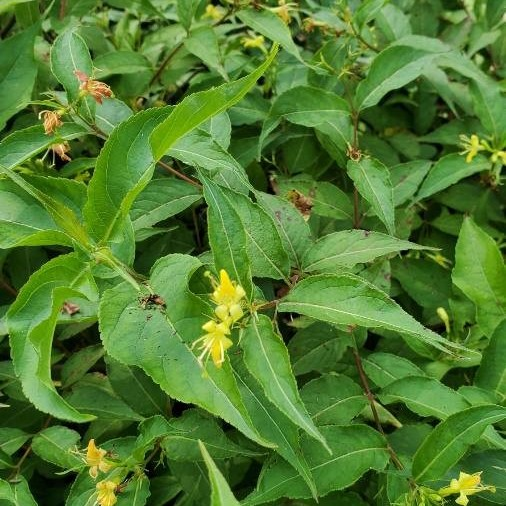obstacle: (57, 94, 436, 422)
